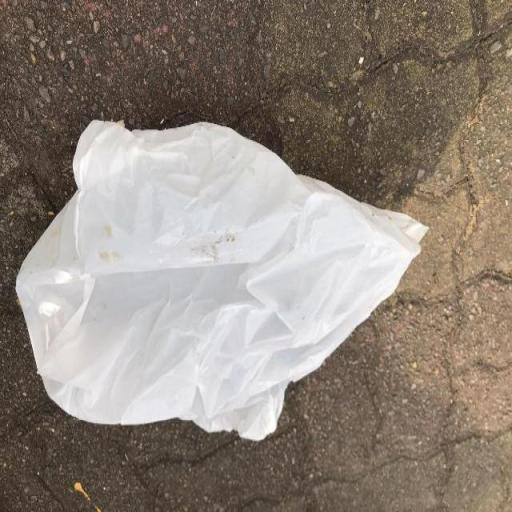plastic-bag: (12, 110, 428, 446)
